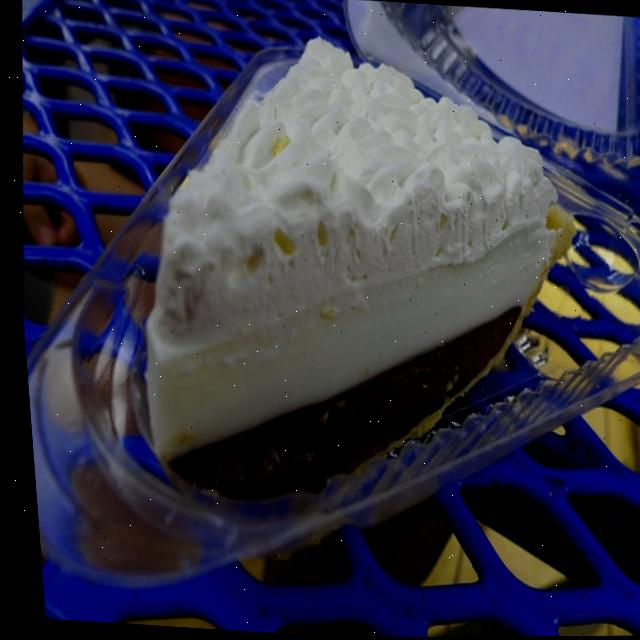蛋糕甜品: (113, 32, 557, 486)
